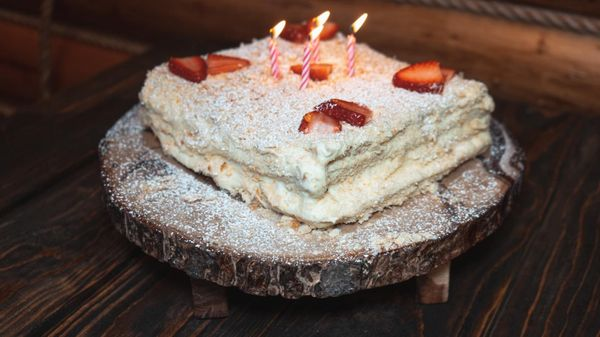sushi: (138, 11, 500, 227)
